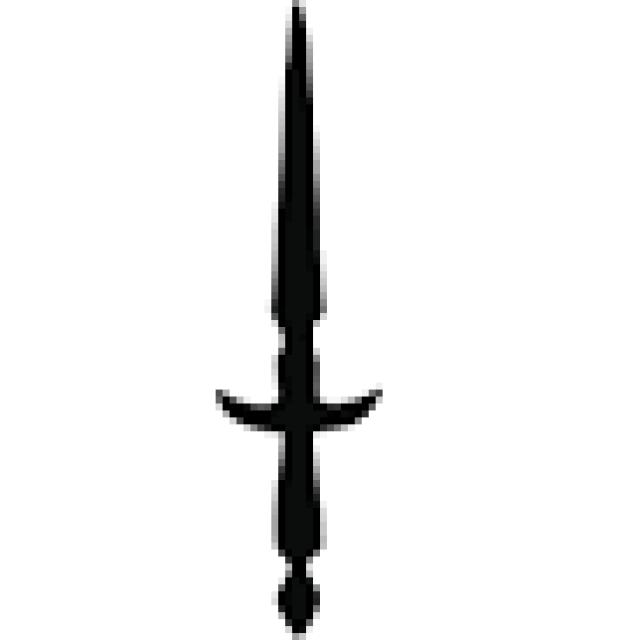Gun: (174, 0, 410, 640)
